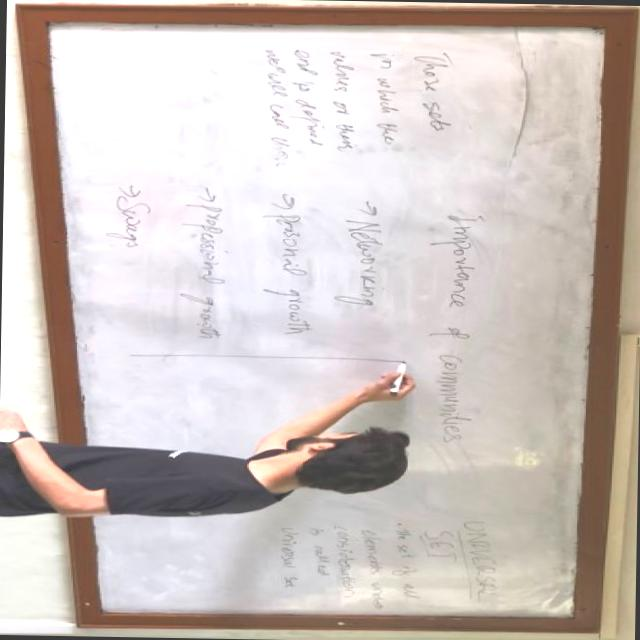Instructor: (0, 415, 426, 539)
White-board: (30, 14, 624, 625)
